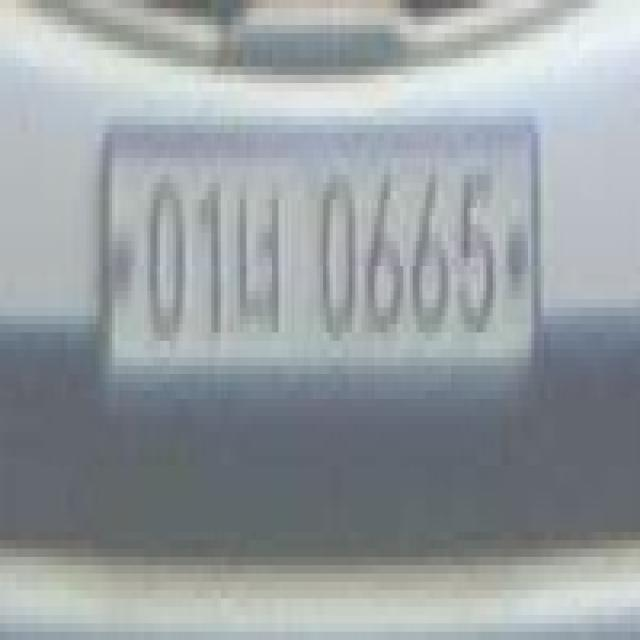0: (315, 156, 359, 354), (144, 164, 190, 346)
1: (198, 176, 226, 343)
5: (457, 158, 500, 342)
6: (364, 146, 411, 350), (412, 153, 454, 338)
license_plate: (92, 113, 546, 385)
neo: (236, 169, 290, 359)
